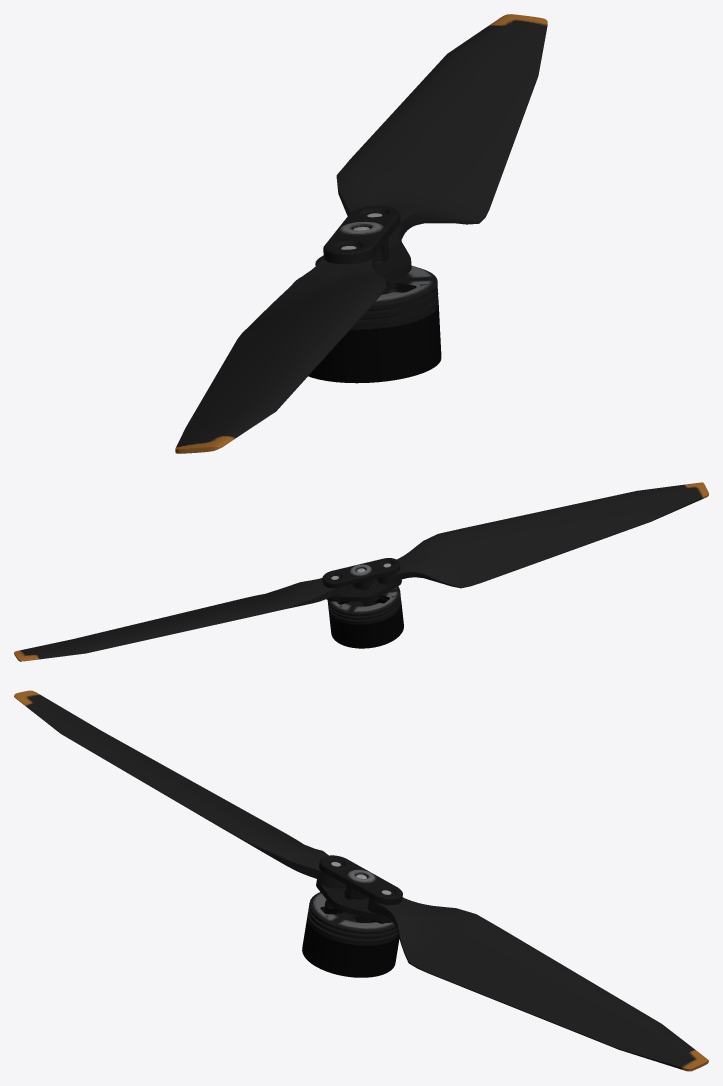
The model's file is motor_lb.dae.
3 views of the same model, one above another, from view 1: azimuth 30°, elevation 25°; view 2: azimuth 150°, elevation 25°; view 3: azimuth 270°, elevation 25° (orthographic). The views are drawn at different scales.
Visible parts, largest first — view 1: Blade2_10.001, Blade2_09.001, Blade2_01.001, Blade2_08.001, Blade2_04.001, Blade2_02.001; view 2: Blade2_09.001, Blade2_10.001, Blade2_08.001, Blade2_01.001, Blade2_04.001, Blade2_02.001, Blade2_03.001; view 3: Blade2_10.001, Blade2_09.001, Blade2_08.001, Blade2_01.001, Blade2_04.001, Blade2_02.001.
Boxes of the visible parts, x1,y1,x2,y2 form: Blade2_10.001: (336,14,547,247); Blade2_09.001: (175,256,386,453); Blade2_01.001: (308,305,441,383); Blade2_08.001: (315,205,411,294); Blade2_04.001: (293,266,437,310); Blade2_02.001: (350,295,438,329); Blade2_09.001: (376,482,708,588); Blade2_10.001: (14,578,348,661); Blade2_08.001: (322,558,401,606); Blade2_01.001: (329,599,403,648); Blade2_04.001: (327,586,400,616); Blade2_02.001: (328,599,401,624); Blade2_03.001: (328,594,400,619); Blade2_10.001: (367,897,708,1071); Blade2_09.001: (14,690,346,887); Blade2_08.001: (316,855,402,922); Blade2_01.001: (302,907,399,977); Blade2_04.001: (309,892,395,934); Blade2_02.001: (307,912,398,945).
Bounding box in the file's own units: 0.1668 × 0.1771 × 0.0388.
Materials: 1 (1 with a texture image).
